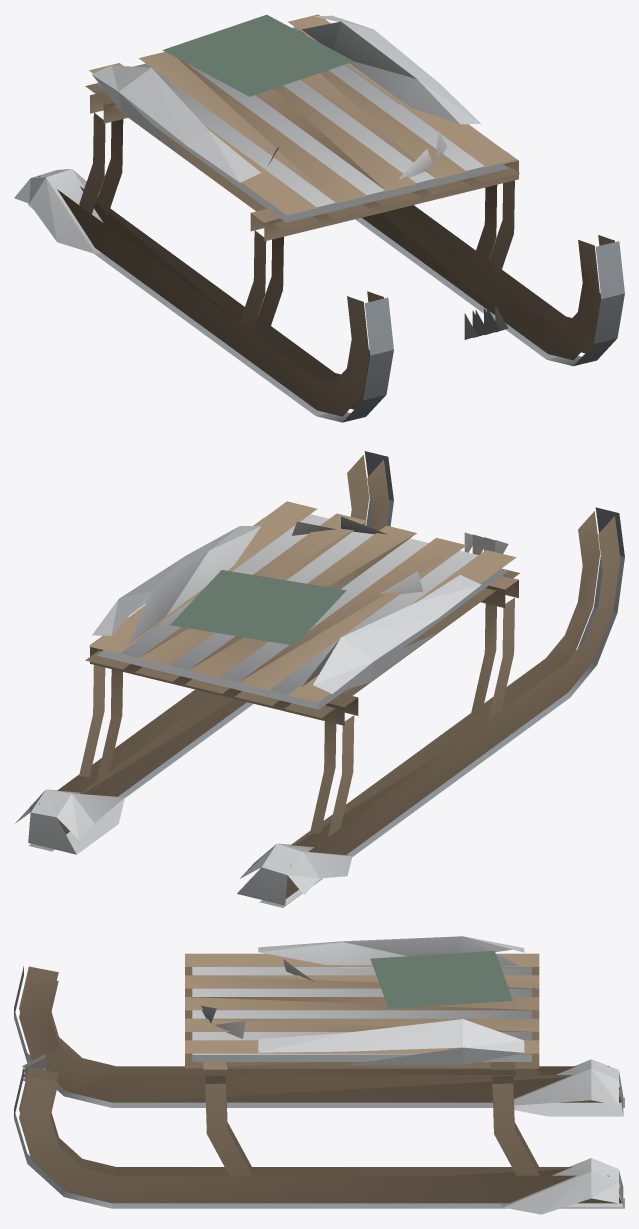
The model's file is toboggan.lod.glb.
The picture shows the model from 3 angles, top to bottom: view 1: azimuth 30°, elevation 25°; view 2: azimuth 150°, elevation 25°; view 3: azimuth 270°, elevation 25°; orthographic projection. The views are drawn at different scales.
Parts seen in each view (by area): view 1: toboggan.001; view 2: toboggan.001; view 3: toboggan.001.
Boxes of the visible parts, x1=… form: toboggan.001: x1=14, y1=14, x2=624, y2=422; toboggan.001: x1=15, y1=451, x2=624, y2=907; toboggan.001: x1=14, y1=936, x2=624, y2=1214.
Bounding box in the file's own units: 0.49 × 0.3168 × 1.
